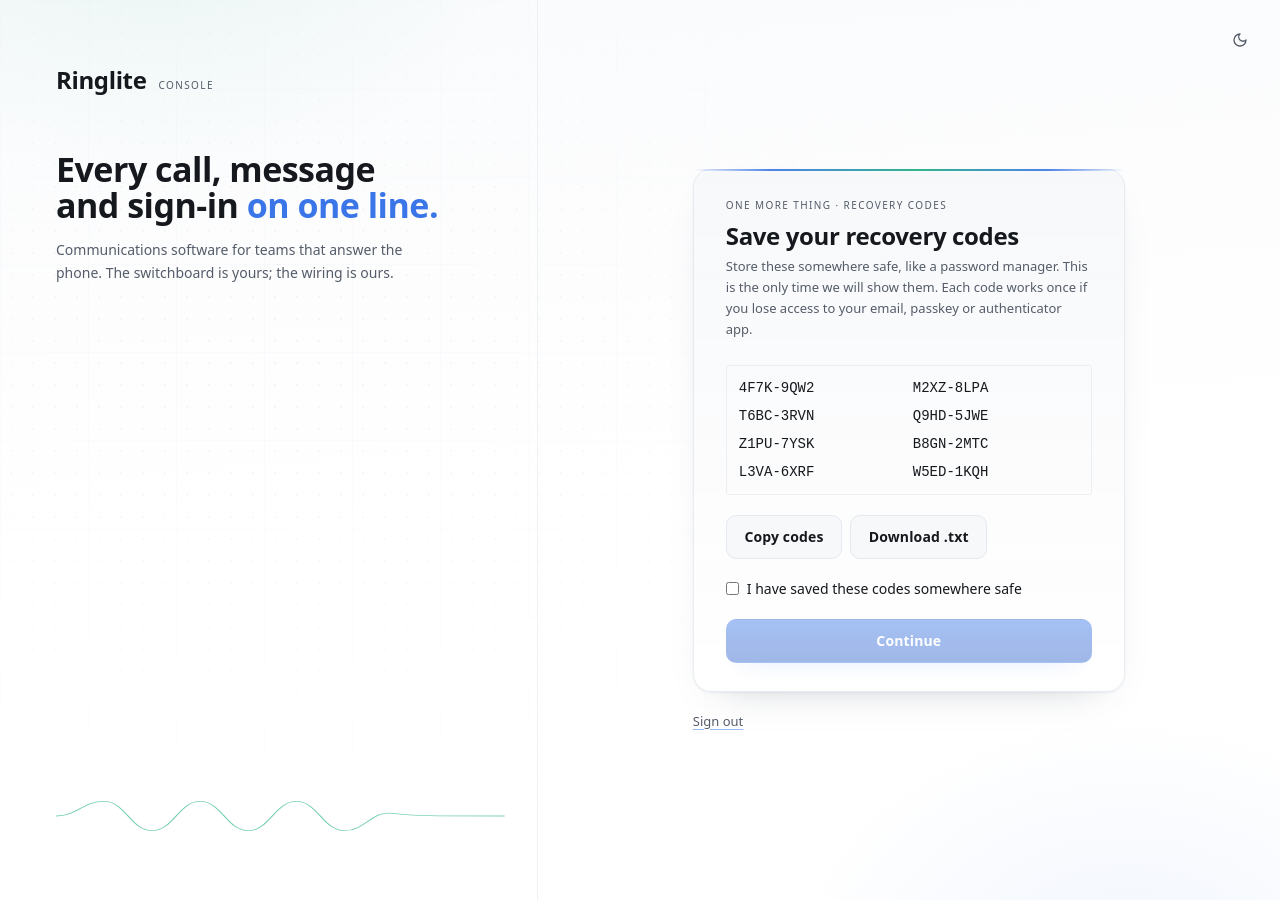
Test: RecoveryCodesPage › copies the codes to the clipboard
The width and height of the screenshot is (1280, 900).
Expected: the list named "Recovery codes" is shown, 726,365 -> 1092,495
Step 1. Click the button "Copy codes" → (784, 537), box 726,515 -> 842,559
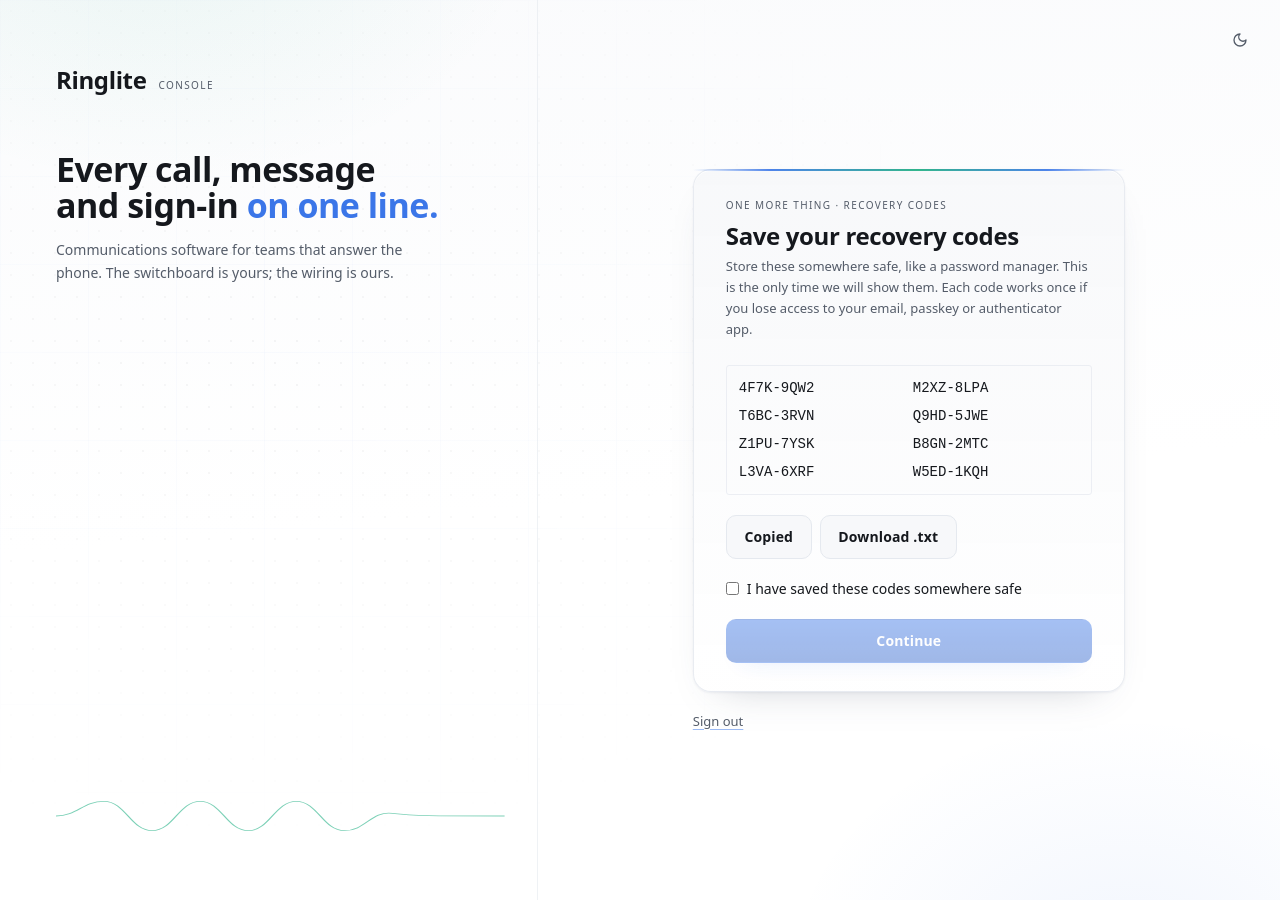
Expected: the button "Copied" is shown, 726,515 -> 812,559
